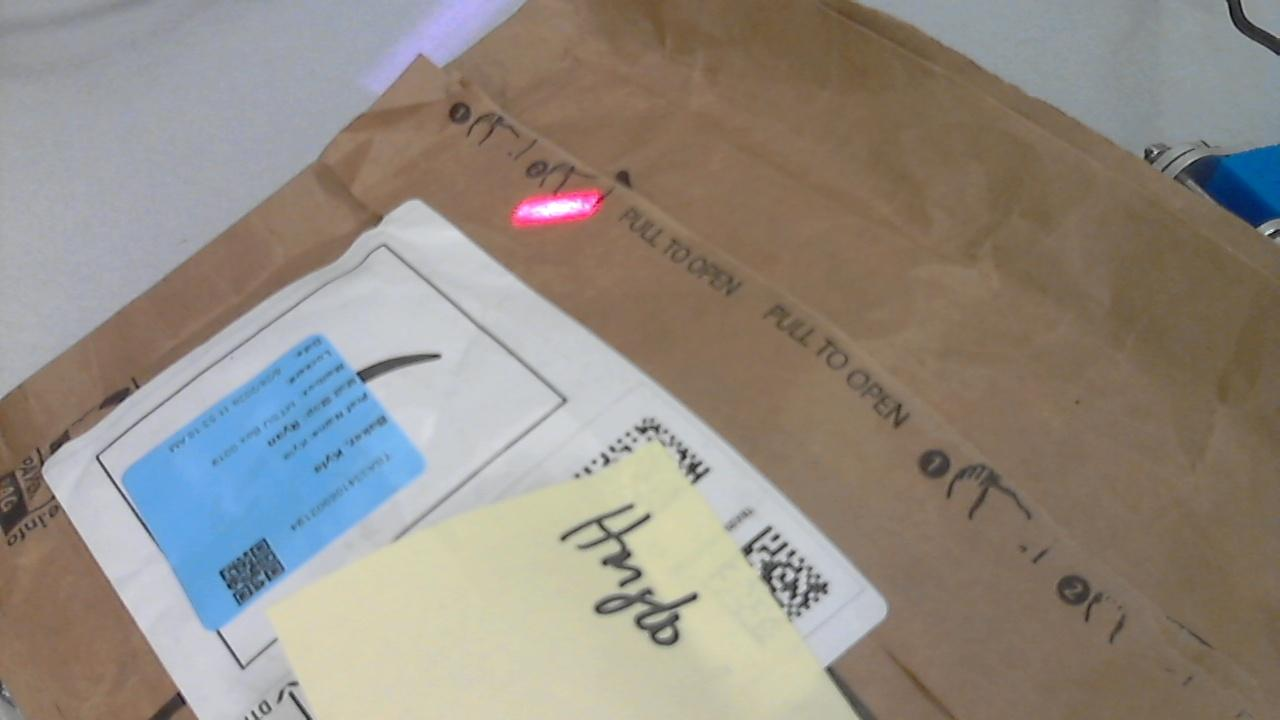Object Amazon recyclable paper mailer - Material paper - Color brown - Pdfname Z: (503, 181, 612, 232)
